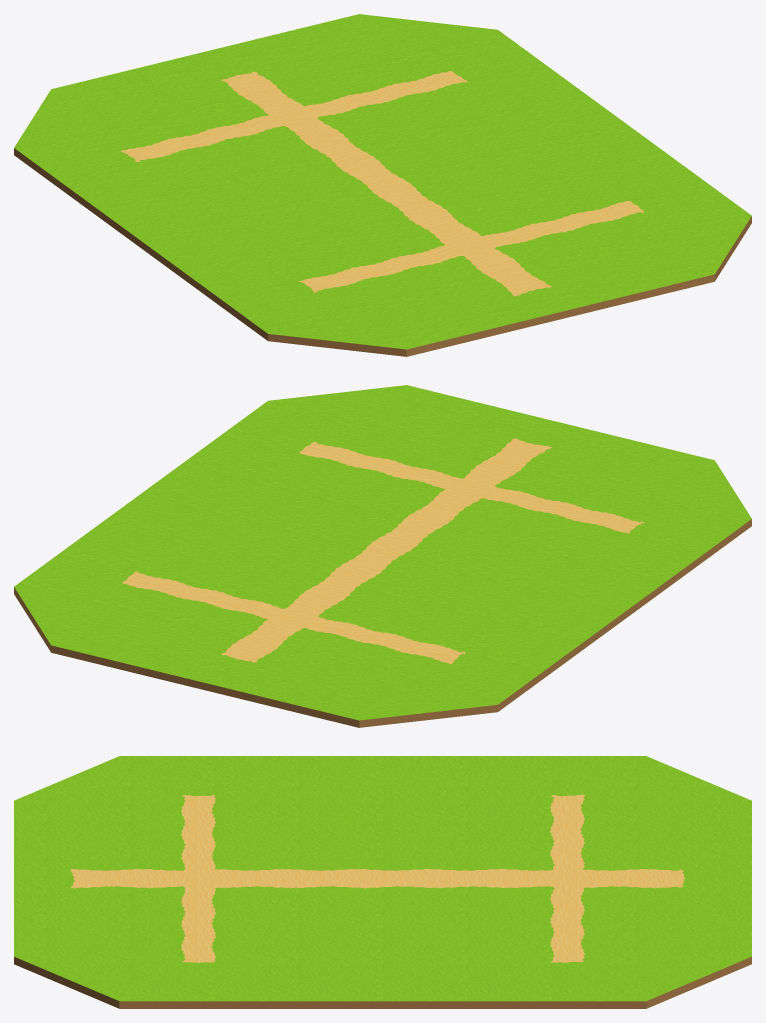
Rendered from surface-07-B18BANaO.glb.
3 renders of one model, top to bottom at view 1: azimuth 30°, elevation 25°; view 2: azimuth 150°, elevation 25°; view 3: azimuth 270°, elevation 25°, orthographic. The views are drawn at different scales.
Visible parts, largest first — view 1: FLC_Surface_07, FLC_Regions_07; view 2: FLC_Surface_07, FLC_Regions_07; view 3: FLC_Surface_07, FLC_Regions_07.
Boxes of the visible parts, <box> form: FLC_Surface_07: <box>14,14,751,356</box>; FLC_Regions_07: <box>120,71,643,296</box>; FLC_Surface_07: <box>14,385,751,727</box>; FLC_Regions_07: <box>122,438,644,663</box>; FLC_Surface_07: <box>14,756,751,1008</box>; FLC_Regions_07: <box>70,794,684,962</box>.
Bounding box in the file's own units: 22 × 0.324 × 28.
Materials: 3 (2 with a texture image).
